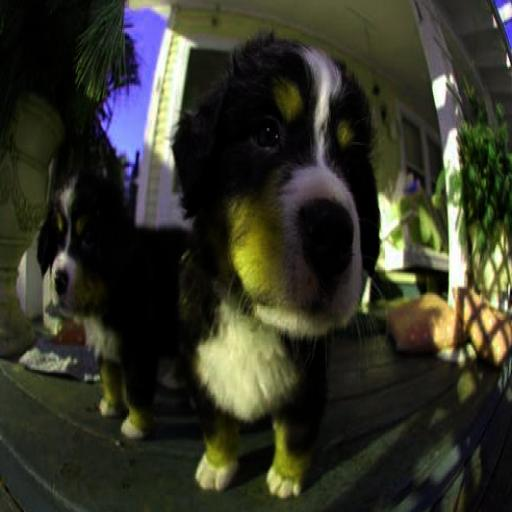dog_face: (192, 34, 372, 341)
